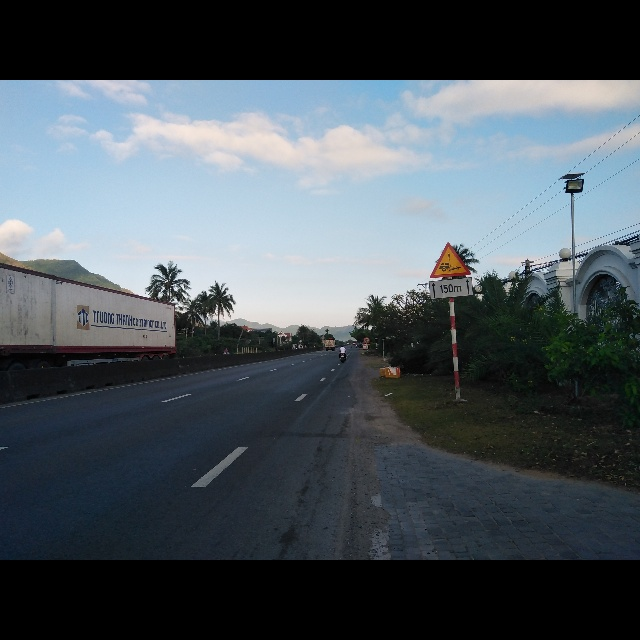Đoạn đường hay xảy ra tai nạn: (429, 241, 470, 279)
